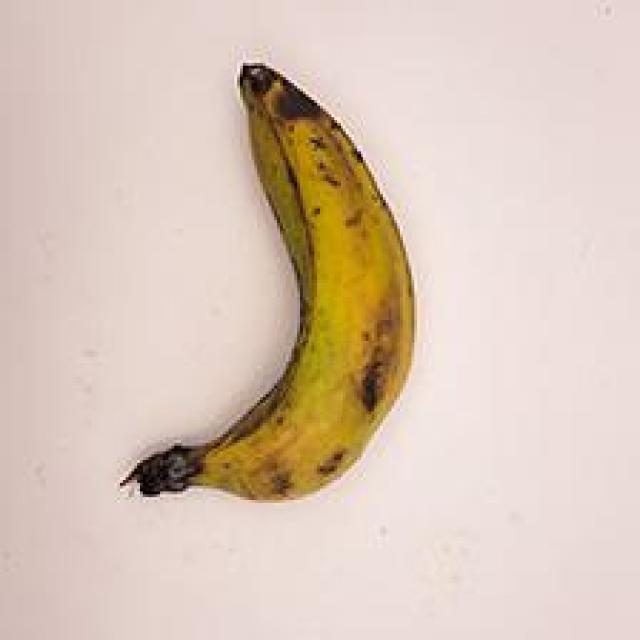Overripe: (77, 21, 449, 531)
